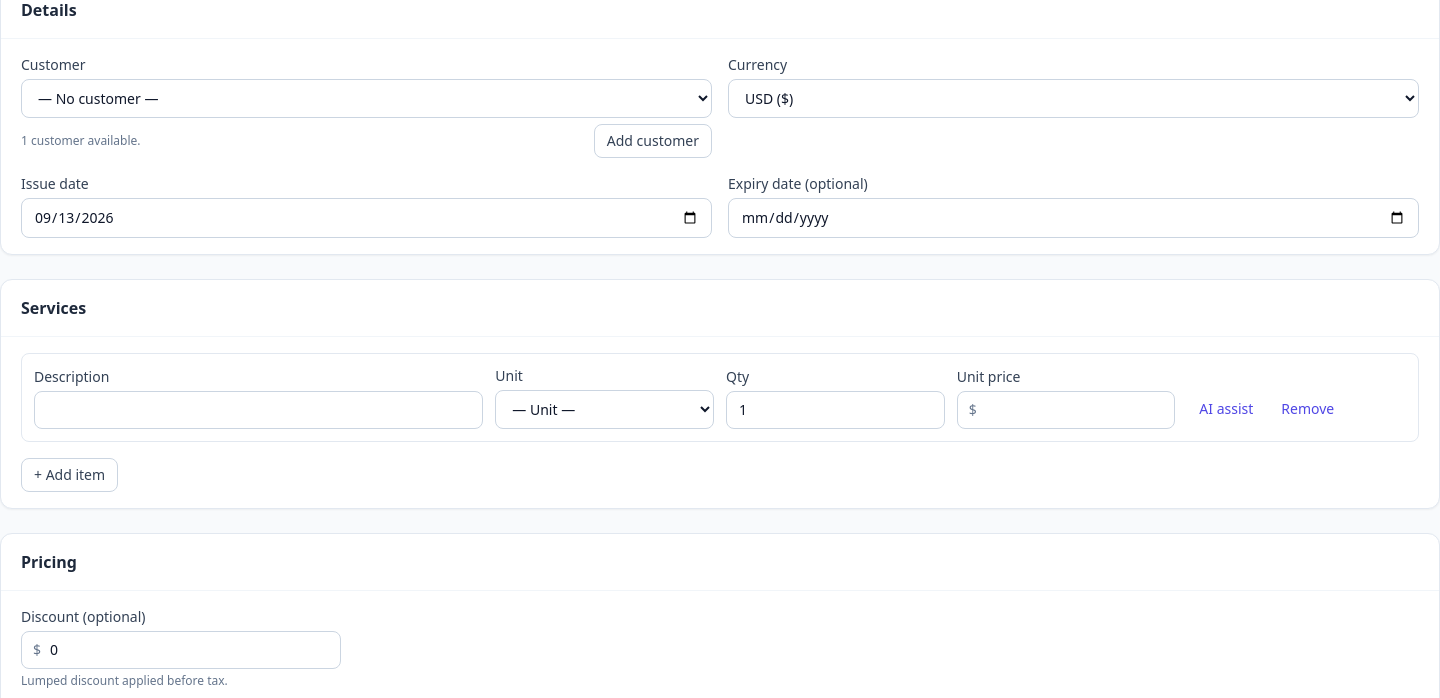
Scenario: QuoteForm › computes a live total including tax from dropdown selection
Type "Deep clean" into the field labelled "Description" at [259, 410], box [34,391,483,429]
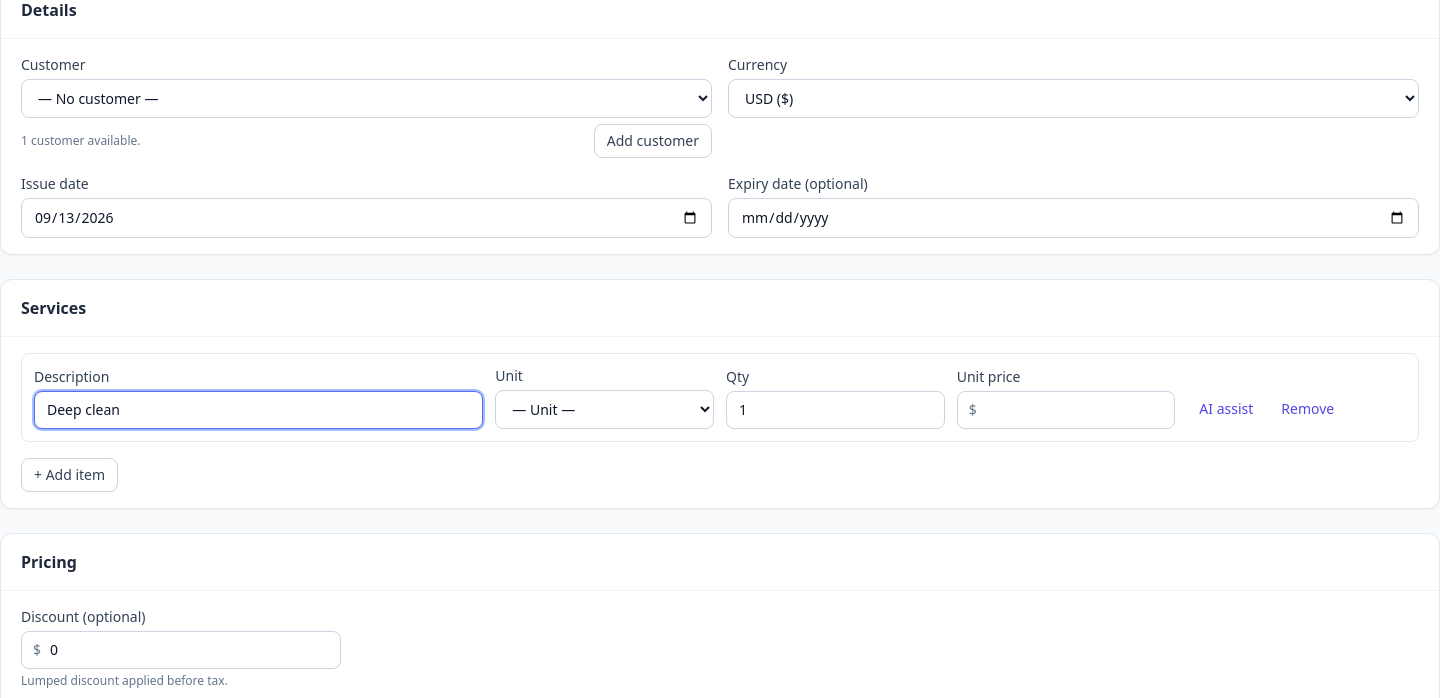
Type "100" into the field labelled "Unit price" at [1066, 410], box [957,391,1175,429]
(page scrolled)
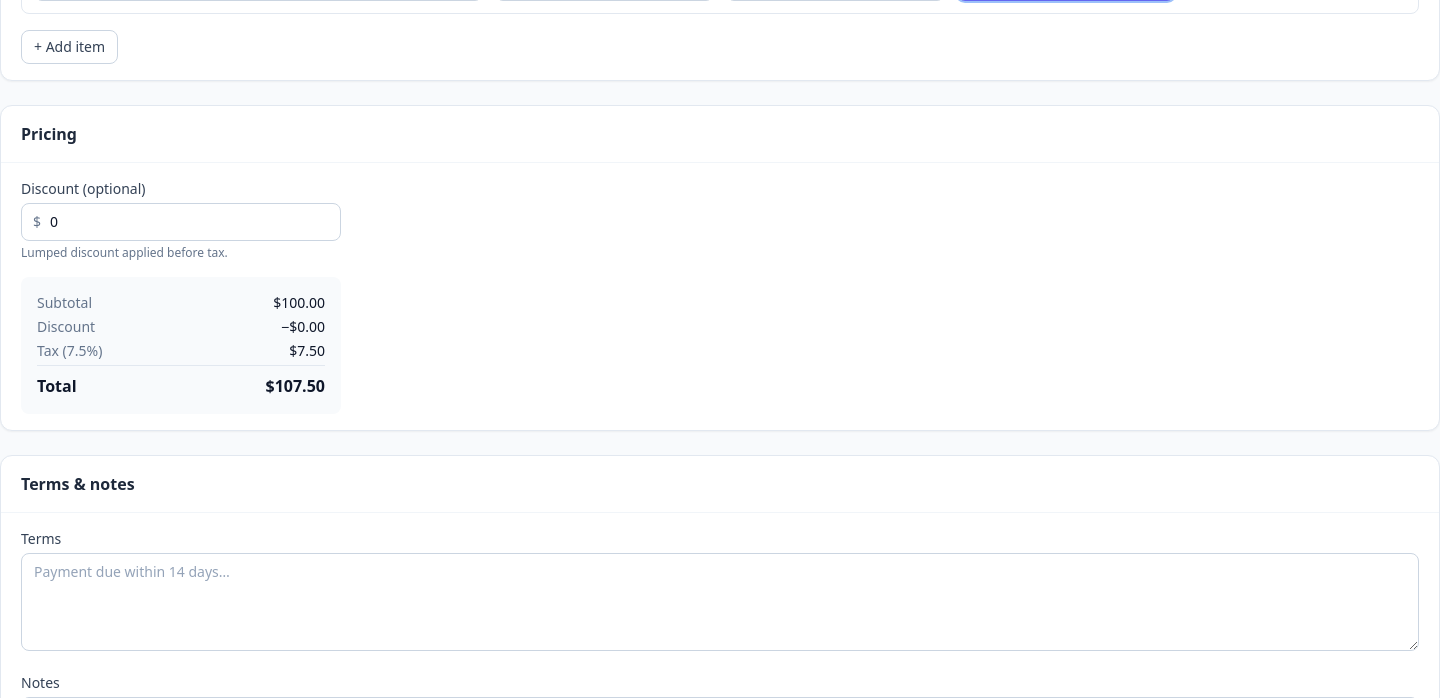
Expected: the text "$100.00" is shown, [273,293,325,312]
Expected: the text "$107.50" is shown, [266,375,325,397]
